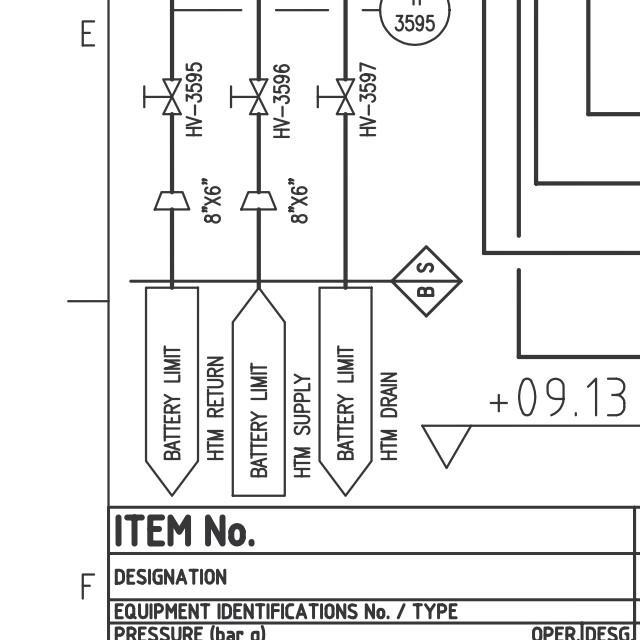HV: (224, 76, 270, 118), (315, 75, 356, 118), (140, 76, 184, 116)
SP: (238, 187, 278, 213), (153, 189, 192, 214)
